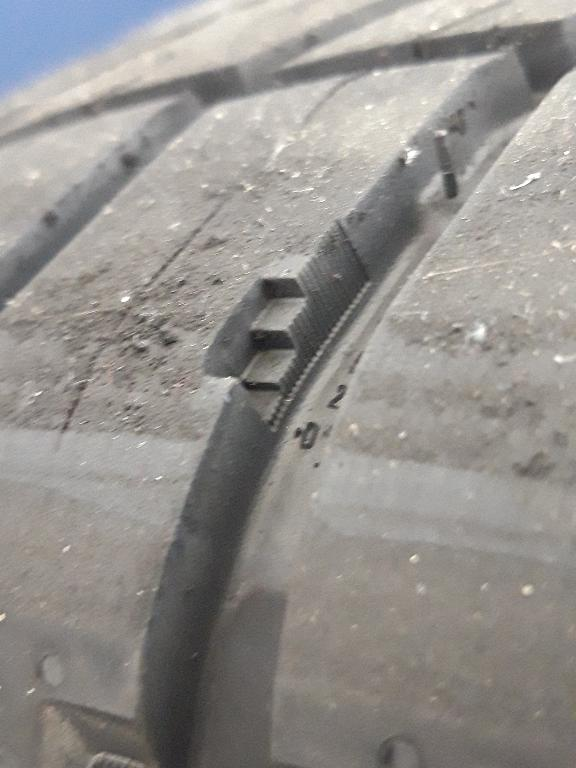temoin:75: (193, 246, 360, 440)
